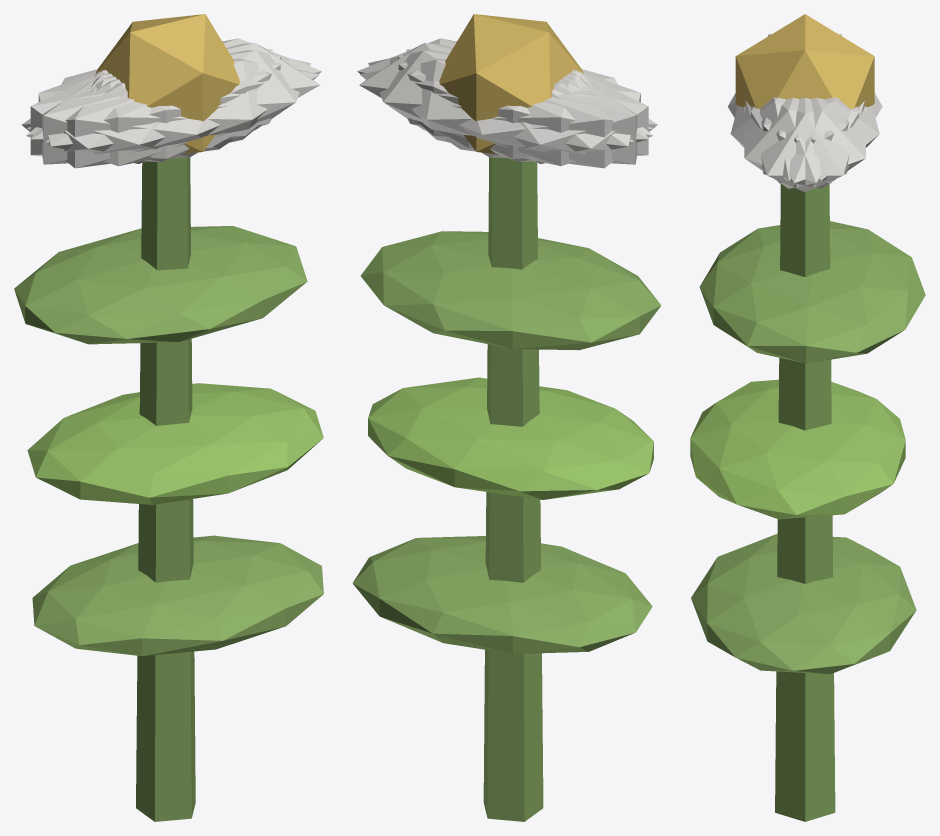
The model's file is phaseolus-vulgaris.glb.
3 views of the same model, side by side, from view 1: azimuth 30°, elevation 25°; view 2: azimuth 150°, elevation 25°; view 3: azimuth 270°, elevation 25° (orthographic).
Parts seen in each view (by area): view 1: leaf1, leaf0, leaf2, stem, center, petal1, petal6, petal2, petal5, petal7, petal0, petal4 (+2 smaller); view 2: leaf2, leaf0, leaf1, stem, center, petal8, petal3, petal7, petal4, petal2, petal0, petal5 (+2 smaller); view 3: leaf2, leaf0, leaf1, stem, center, petal0, petal4, petal5, petal8, petal1.
Part boxes in pixels (x1=…): leaf1: x1=27, y1=383, x2=323, y2=504; leaf0: x1=32, y1=535, x2=323, y2=656; leaf2: x1=14, y1=226, x2=307, y2=344; stem: x1=136, y1=157, x2=195, y2=821; center: x1=95, y1=14, x2=239, y2=154; petal1: x1=26, y1=58, x2=319, y2=166; petal6: x1=21, y1=71, x2=233, y2=168; petal2: x1=42, y1=49, x2=272, y2=164; petal5: x1=46, y1=50, x2=310, y2=158; petal7: x1=30, y1=55, x2=281, y2=161; petal0: x1=95, y1=42, x2=319, y2=148; petal4: x1=27, y1=38, x2=321, y2=139; leaf2: x1=360, y1=231, x2=661, y2=350; leaf0: x1=352, y1=536, x2=652, y2=653; leaf1: x1=368, y1=377, x2=653, y2=499; stem: x1=483, y1=157, x2=543, y2=821; center: x1=439, y1=14, x2=583, y2=154; petal8: x1=360, y1=58, x2=653, y2=166; petal3: x1=445, y1=71, x2=657, y2=168; petal7: x1=406, y1=49, x2=637, y2=164; petal4: x1=368, y1=50, x2=633, y2=158; petal2: x1=398, y1=55, x2=648, y2=161; petal0: x1=359, y1=42, x2=584, y2=148; petal5: x1=357, y1=38, x2=651, y2=139; leaf2: x1=699, y1=221, x2=925, y2=363; leaf0: x1=691, y1=533, x2=916, y2=674; leaf1: x1=690, y1=379, x2=905, y2=519; stem: x1=775, y1=184, x2=835, y2=821; center: x1=735, y1=14, x2=874, y2=108; petal0: x1=745, y1=97, x2=864, y2=192; petal4: x1=751, y1=97, x2=866, y2=188; petal5: x1=744, y1=97, x2=859, y2=188; petal8: x1=761, y1=97, x2=879, y2=180; petal1: x1=730, y1=97, x2=848, y2=180.
Bounding box in the file's own units: 0.1452 × 0.378 × 0.1039.
